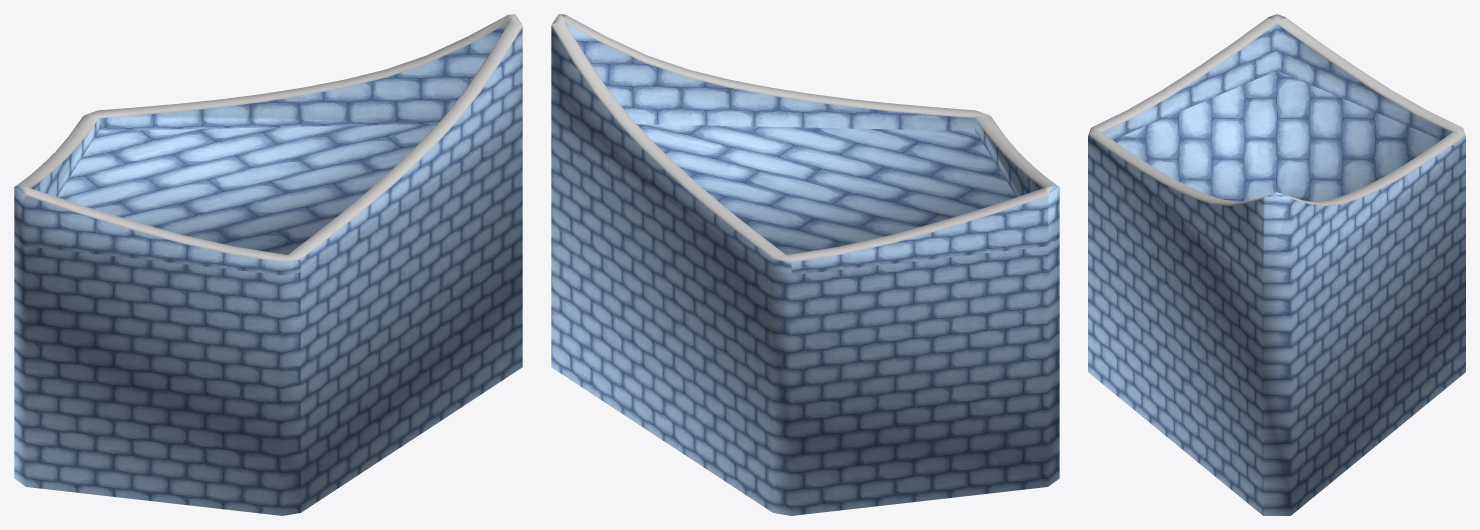
Rendered from TriTower.fbx.
3 views of the same model, side by side, from view 1: azimuth 30°, elevation 25°; view 2: azimuth 150°, elevation 25°; view 3: azimuth 270°, elevation 25° (orthographic). The views are drawn at different scales.
Parts seen in each view (by area): view 1: Cube; view 2: Cube; view 3: Cube.
Part boxes in pixels (box(x1,y1,x2,y2)): Cube: box(14, 14, 522, 515); Cube: box(551, 14, 1059, 515); Cube: box(1088, 14, 1465, 515).
Bounding box in the file's own units: 4.31 × 2.89 × 3.05.
